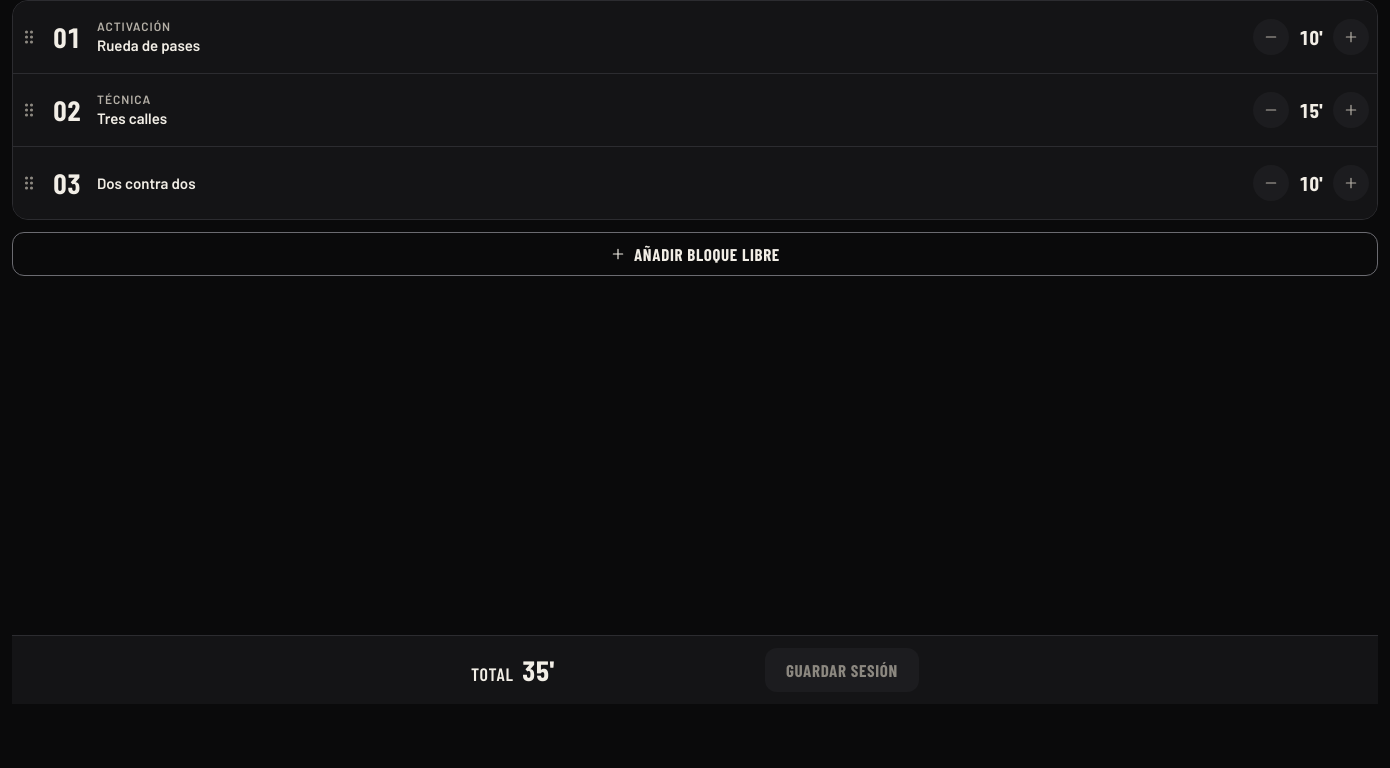
it: PracticeBuilder · minutos › los minutos van de 5 en 5 y el total se recalcula
Click the button named "Más minutos, Rueda de pases": (1351, 37) [1329,15,1373,59]
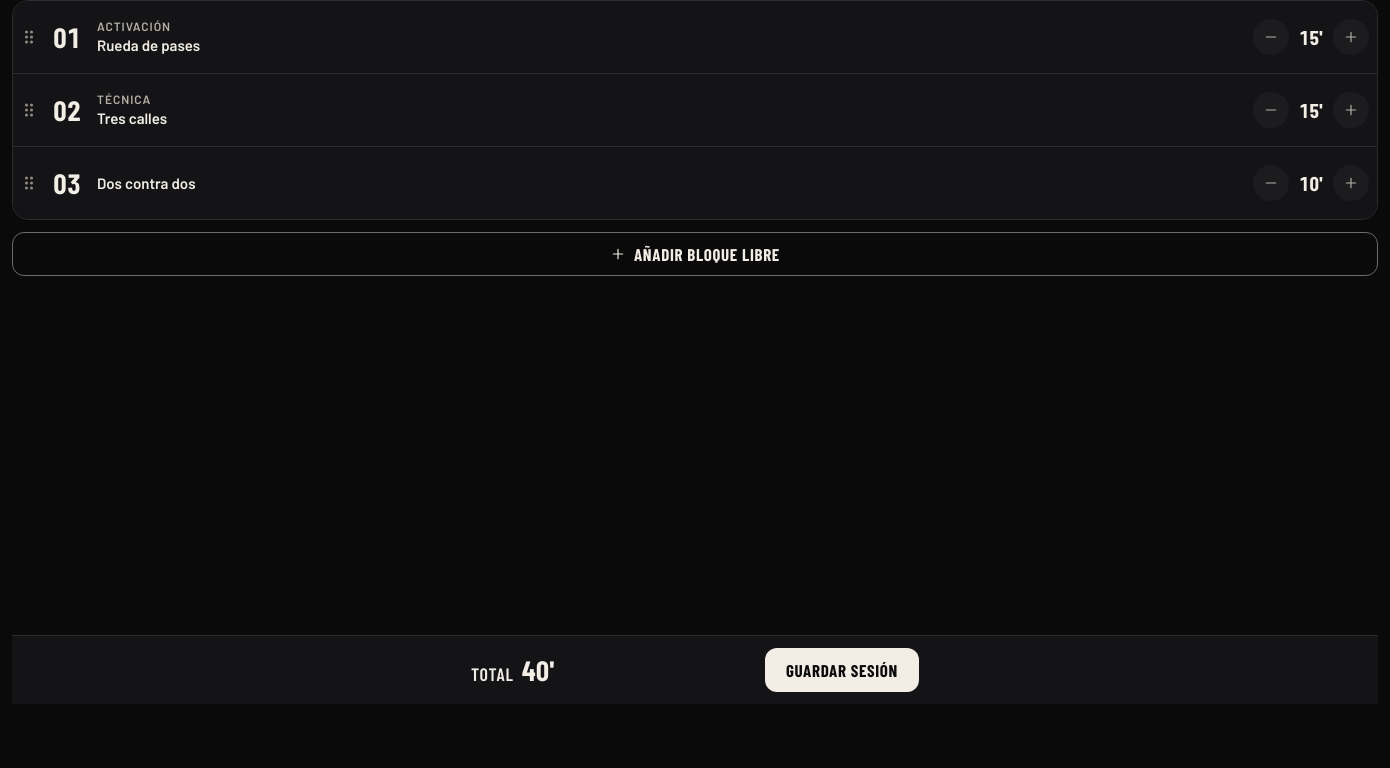
Now the list item "01 Activación Rueda de pases 15'" is shown, box [13,1,1377,73]
Now the text "40'" is shown, box [522,652,554,686]
Click the button named "Menos minutos, Tres calles": (1271, 110) [1249,88,1293,132]
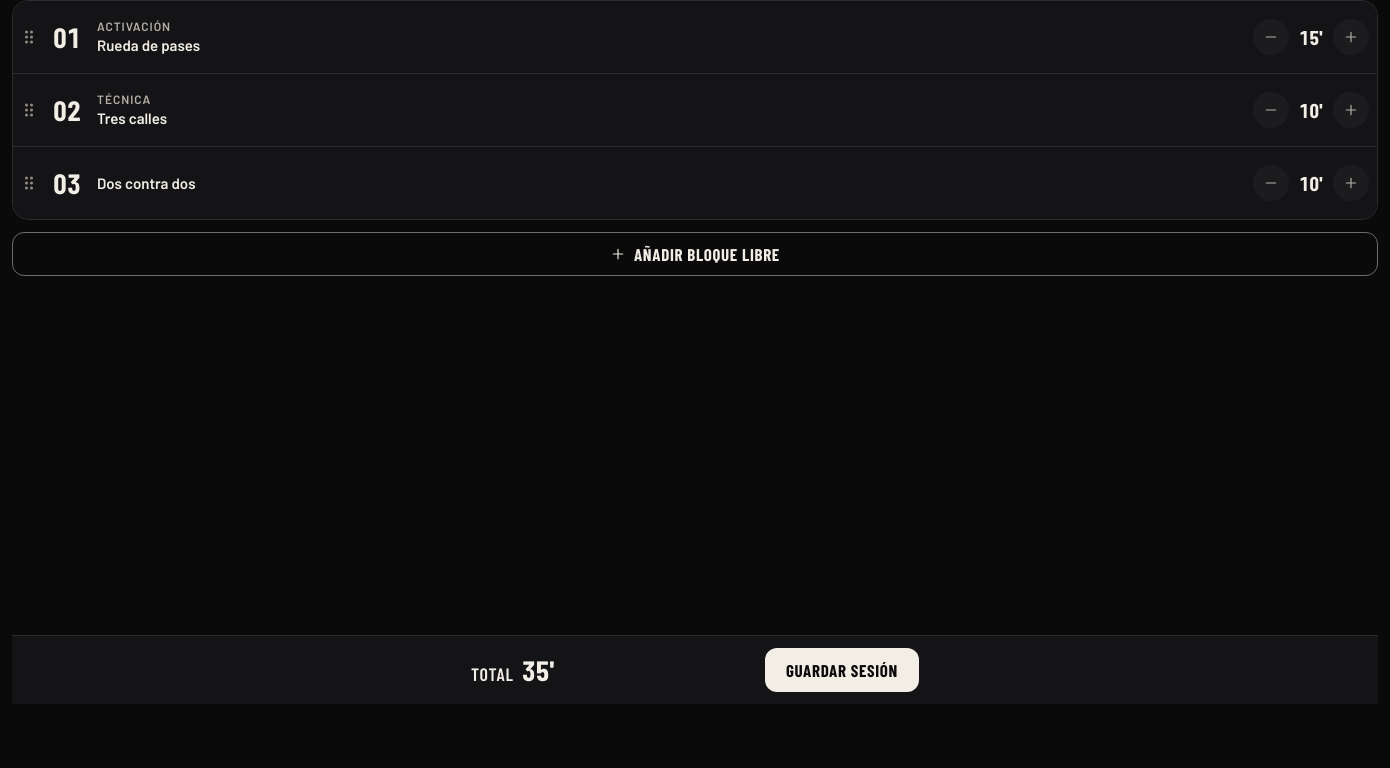
Click the button named "Menos minutos, Tres calles": (1271, 110) [1249,88,1293,132]
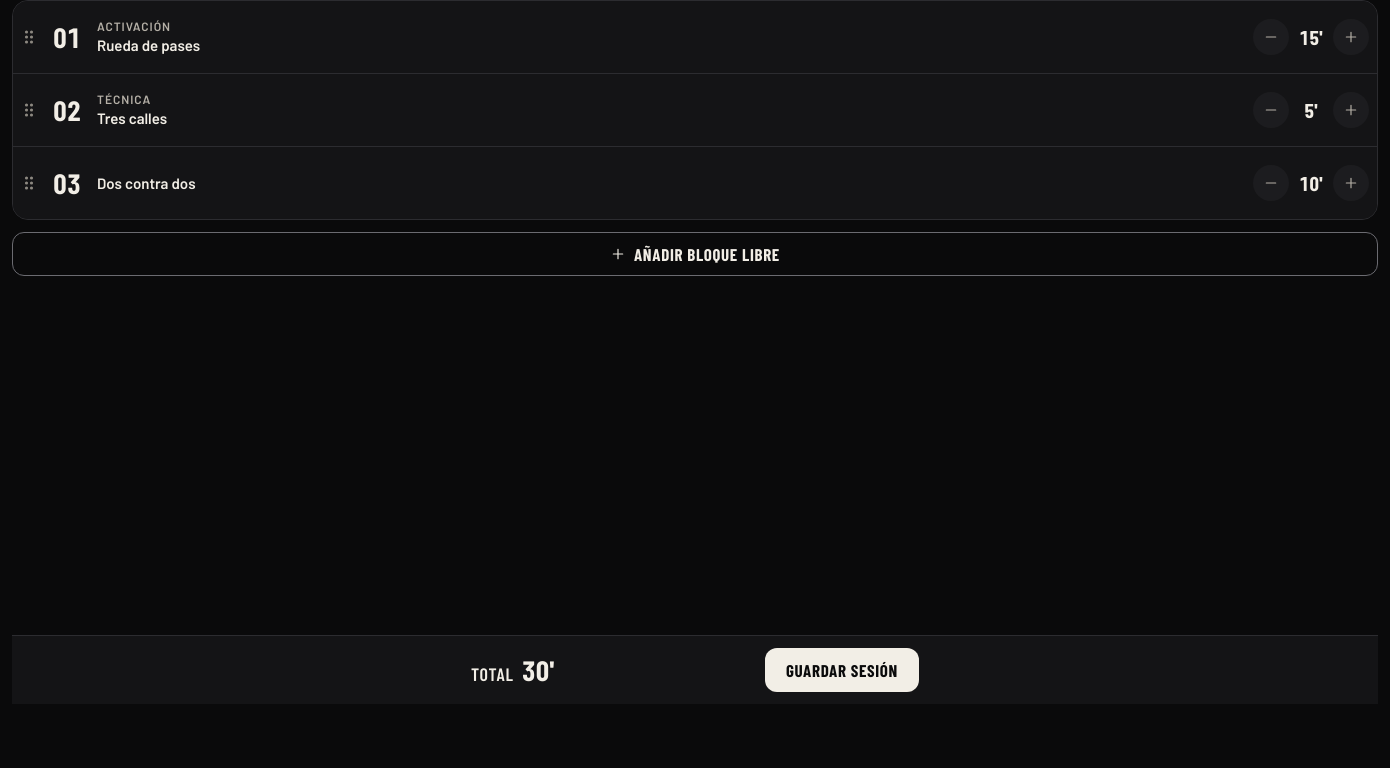
Now the list item "02 Técnica Tres calles 5'" is shown, box [13,73,1377,146]
Now the text "30'" is shown, box [522,652,554,686]
